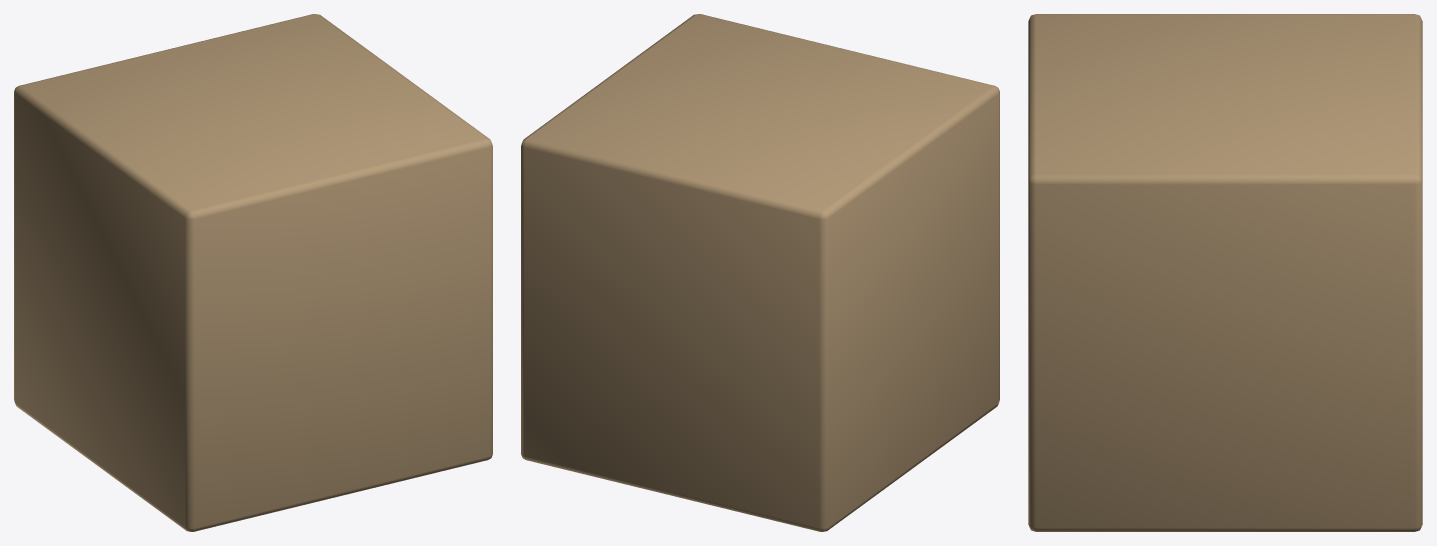
Rendered from dirt.glb.
The picture shows the model from 3 angles, left to right: view 1: azimuth 30°, elevation 25°; view 2: azimuth 150°, elevation 25°; view 3: azimuth 270°, elevation 25°; orthographic projection. The views are drawn at different scales.
Parts seen in each view (by area): view 1: dirt; view 2: dirt; view 3: dirt.
Boxes of the visible parts, x1=… form: dirt: x1=14, y1=14, x2=492, y2=531; dirt: x1=521, y1=14, x2=999, y2=531; dirt: x1=1028, y1=14, x2=1422, y2=531.
Size of the model in its own units: 1 by 1 by 1.
